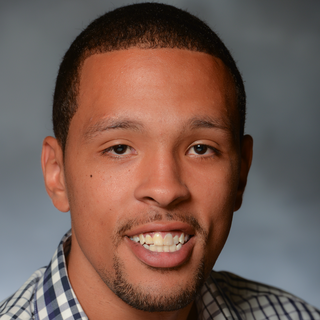eye: (96, 138, 141, 163), (180, 138, 223, 163)
